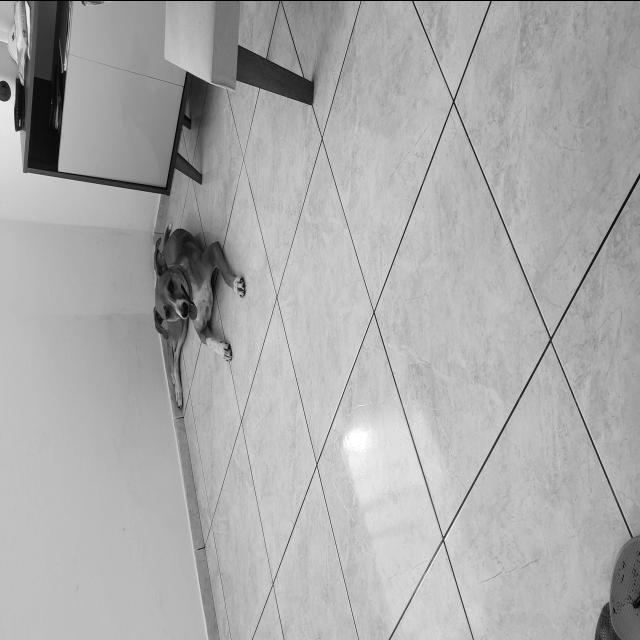laying down: (146, 216, 249, 416)
